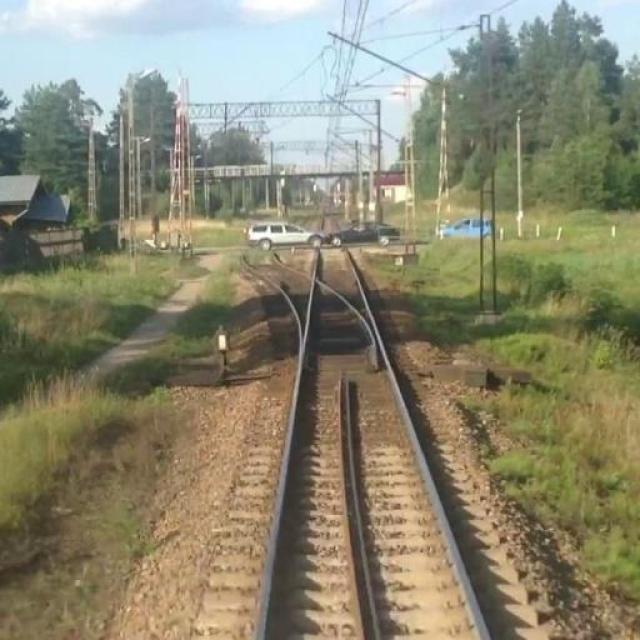vehicle: (242, 220, 328, 250), (323, 213, 404, 244), (437, 217, 502, 244)
